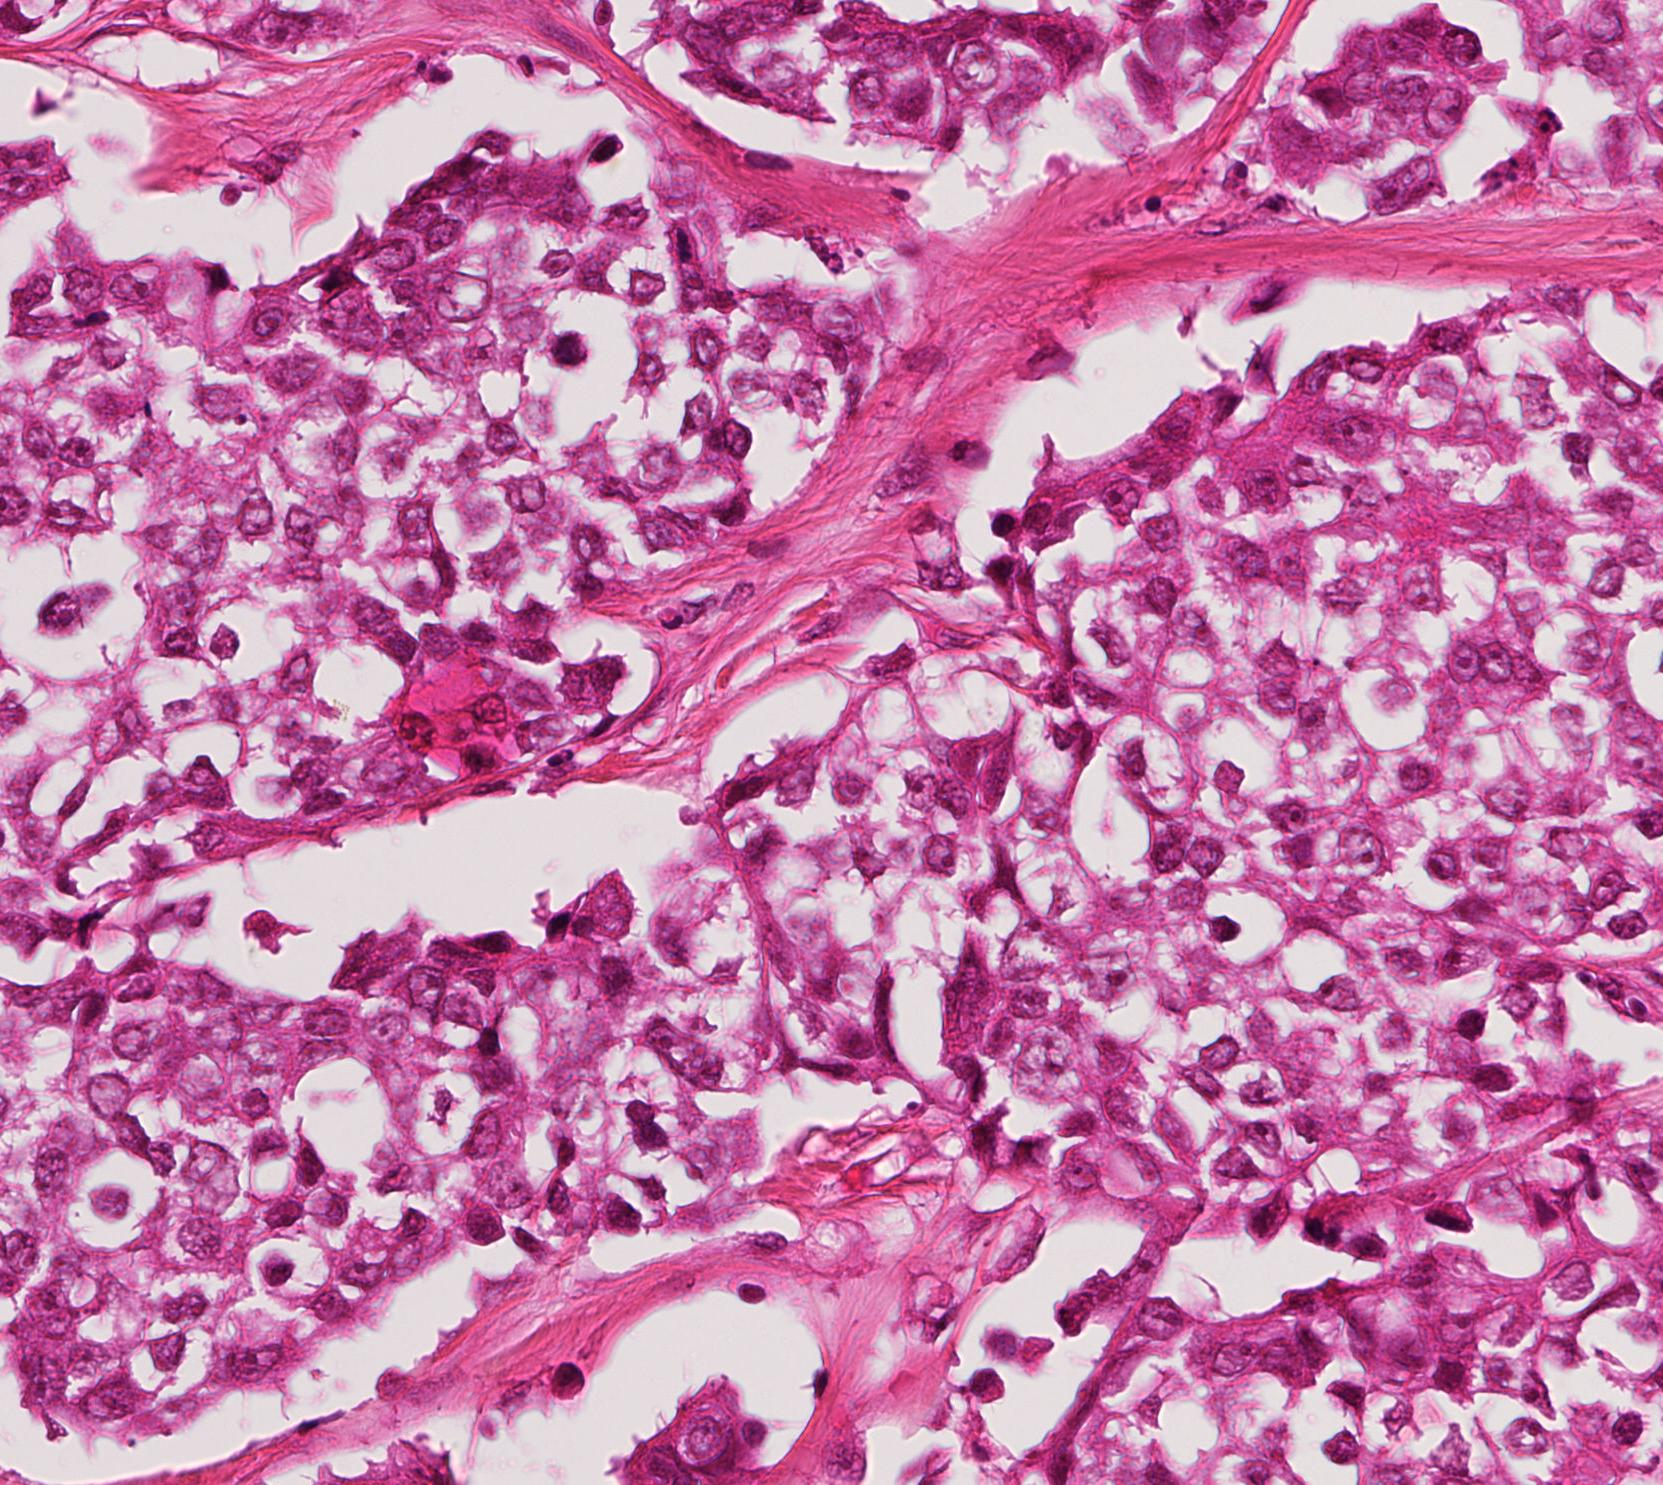mitosis: (652, 209, 713, 269)
